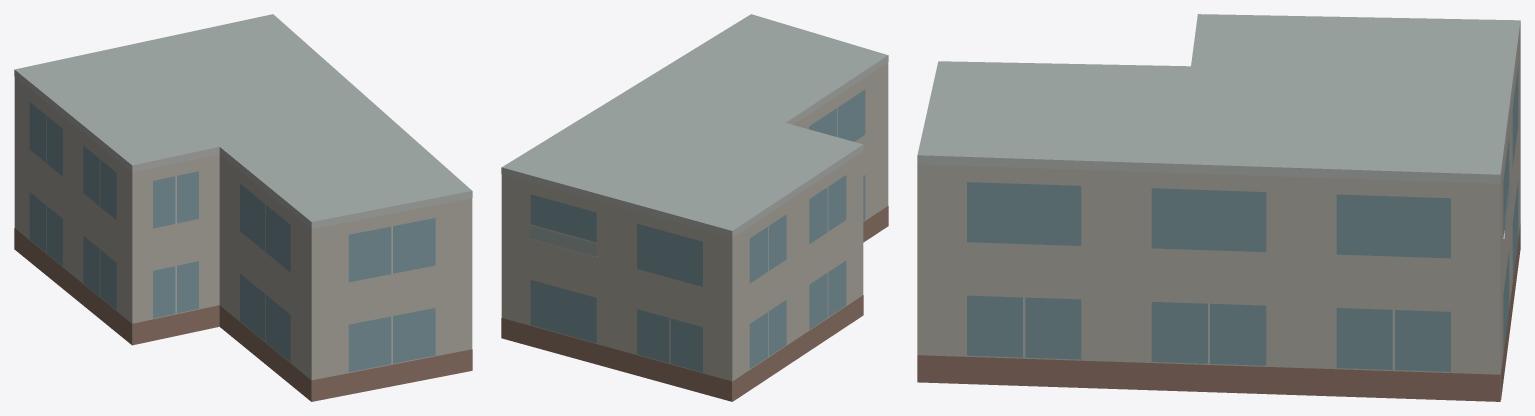
File: survey-upis-32761936.glb
3 renders of one model, left to right at view 1: azimuth 30°, elevation 25°; view 2: azimuth 150°, elevation 25°; view 3: azimuth 270°, elevation 25°, orthographic. The views are drawn at different scales.
Visible parts, largest first — view 1: survey-upis-32761936.tmp; view 2: survey-upis-32761936.tmp; view 3: survey-upis-32761936.tmp.
Boxes of the visible parts, x1,y1,x2,y2 form: survey-upis-32761936.tmp: [14, 14, 472, 401]; survey-upis-32761936.tmp: [501, 14, 888, 401]; survey-upis-32761936.tmp: [917, 14, 1520, 401].
Size of the model in its own units: 9.27 by 6.1 by 14.7.
